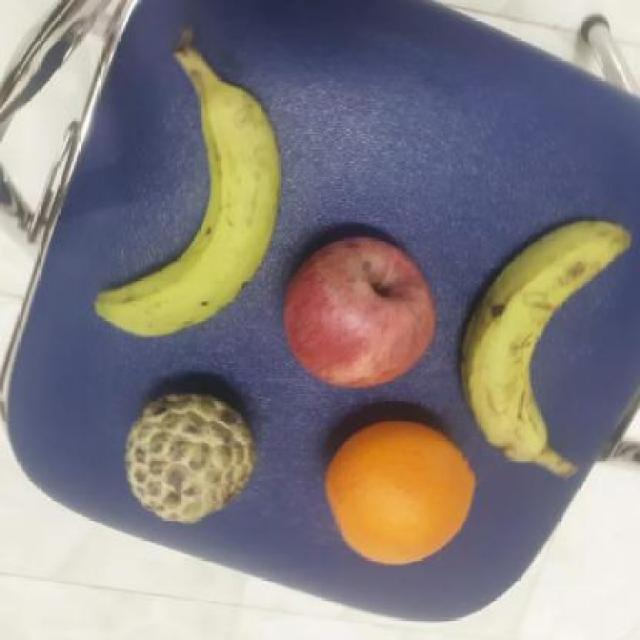apple: (276, 235, 439, 392)
banana: (88, 73, 284, 341), (460, 210, 638, 468)
oren: (321, 420, 477, 571)
sugar apple: (123, 392, 260, 525)
